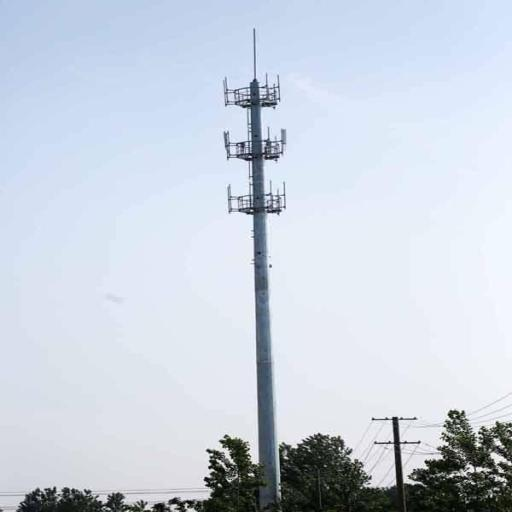monopole_tower: (222, 26, 288, 510)
